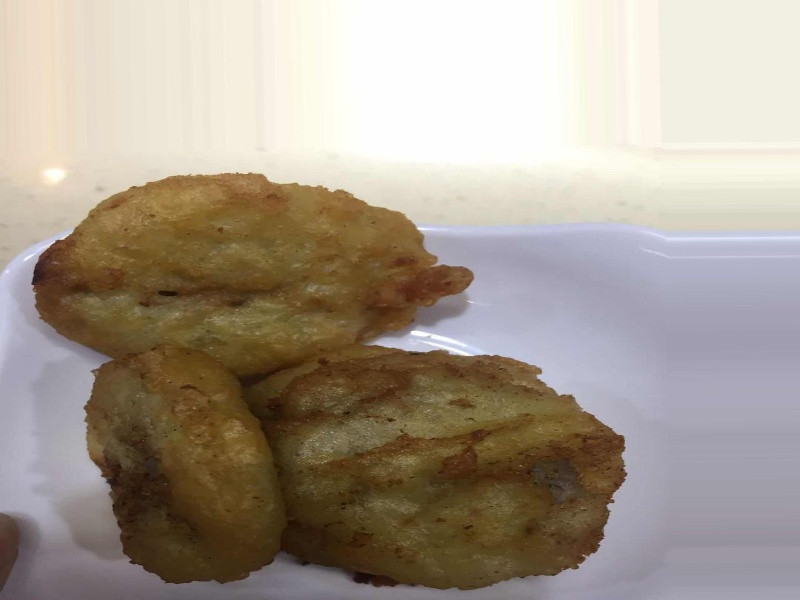patato: (1, 171, 635, 600)
